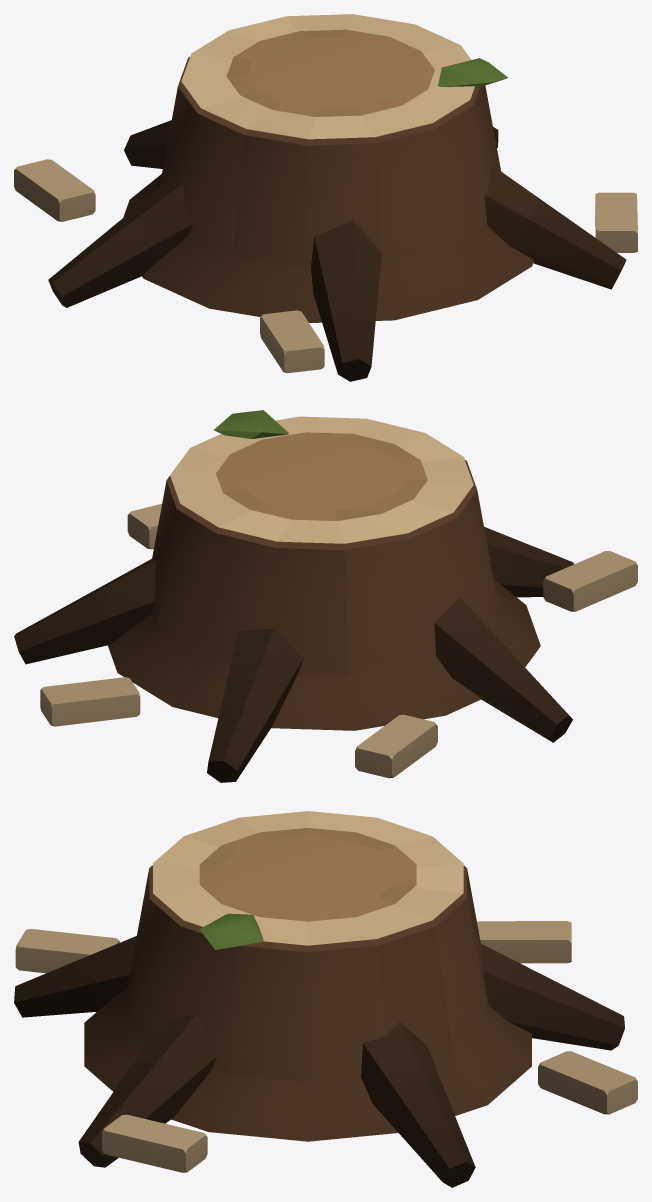
The model's file is stump.glb.
3 renders of one model, top to bottom at view 1: azimuth 30°, elevation 25°; view 2: azimuth 150°, elevation 25°; view 3: azimuth 270°, elevation 25°, orthographic. The views are drawn at different scales.
Parts seen in each view (by area): view 1: stump.001; view 2: stump.001; view 3: stump.001.
Boxes of the visible parts, bbox=[...] form: stump.001: bbox=[14, 14, 637, 381]; stump.001: bbox=[14, 410, 637, 782]; stump.001: bbox=[14, 811, 637, 1187].
Bounding box in the file's own units: 1.69 × 0.6108 × 1.68.
